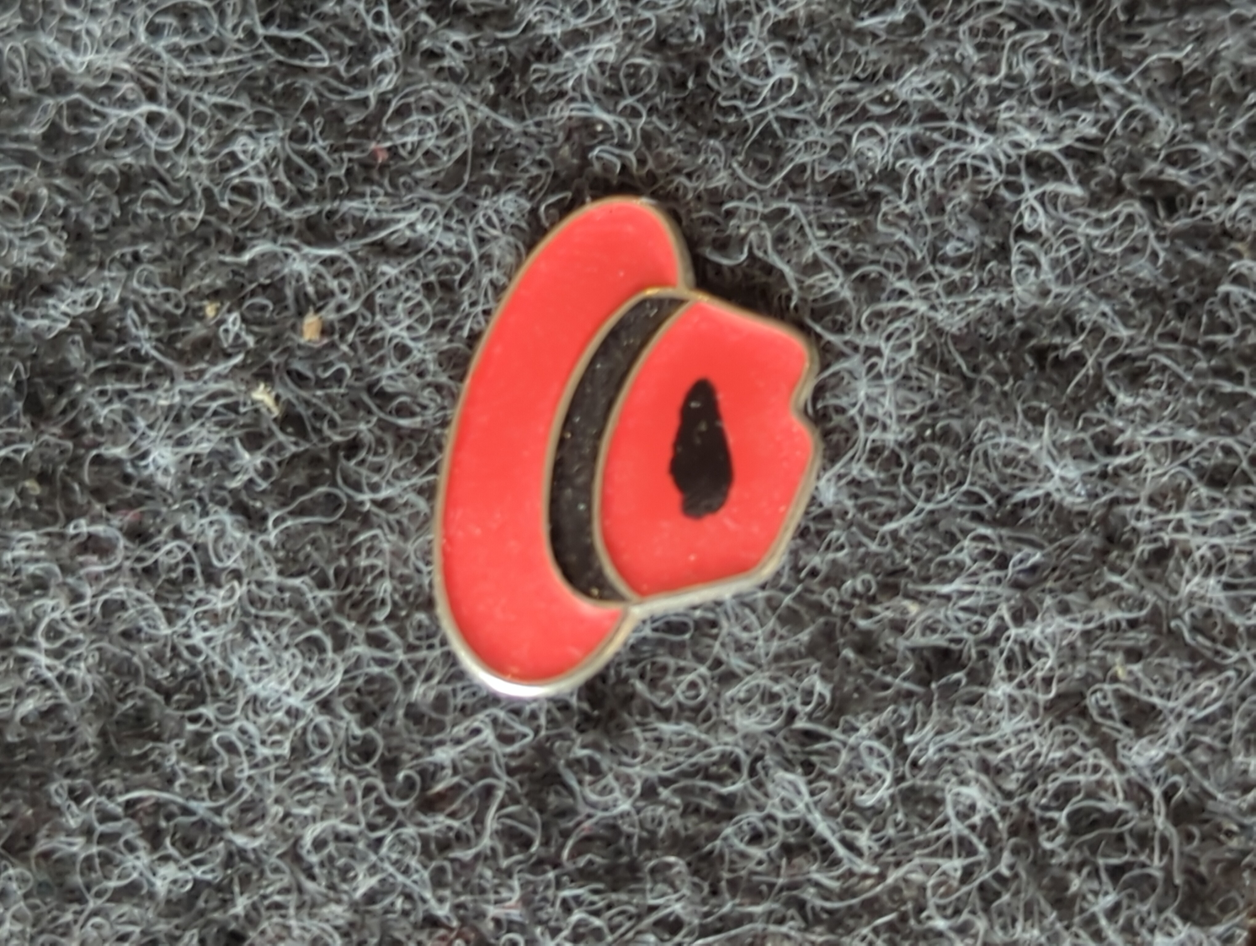Red-Hat: (350, 85, 950, 798)
Scratch: (627, 333, 790, 548)
